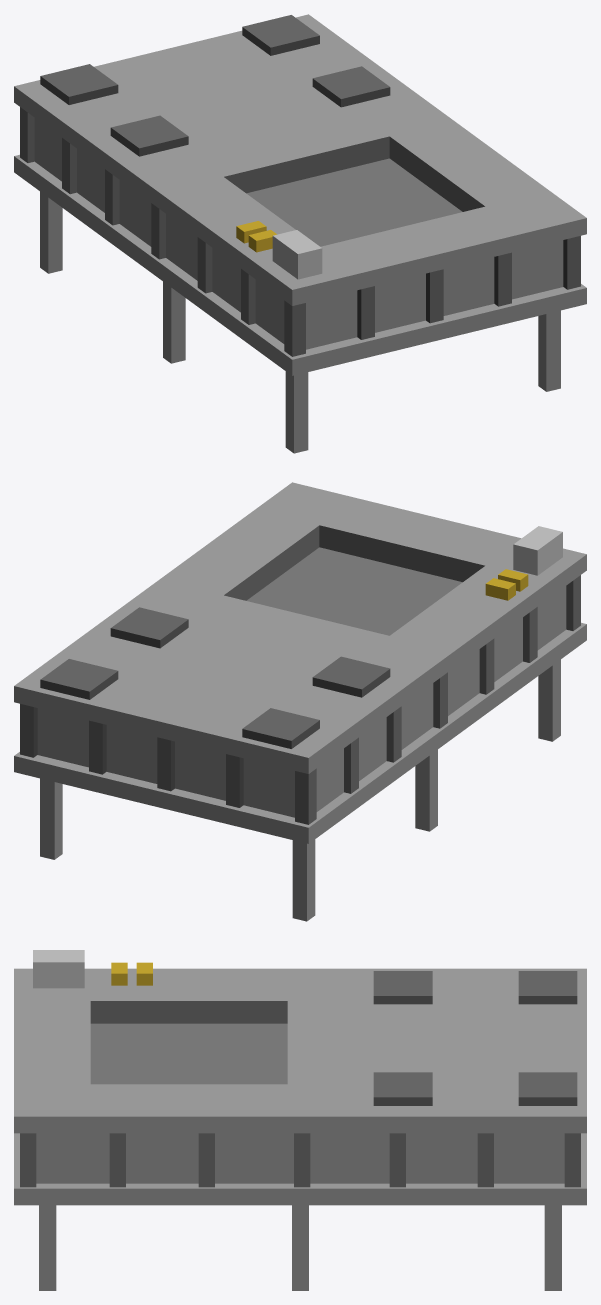
The model's file is SM_Bld_ShuttleLaunchPad_03.fbx.
3 renders of one model, top to bottom at view 1: azimuth 30°, elevation 25°; view 2: azimuth 150°, elevation 25°; view 3: azimuth 270°, elevation 25°, orthographic. The views are drawn at different scales.
Visible parts, largest first — view 1: SM_Bld_ShuttleLaunchPad_03; view 2: SM_Bld_ShuttleLaunchPad_03; view 3: SM_Bld_ShuttleLaunchPad_03.
Boxes of the visible parts, <box> form: SM_Bld_ShuttleLaunchPad_03: <box>14,14,586,453</box>; SM_Bld_ShuttleLaunchPad_03: <box>14,482,586,921</box>; SM_Bld_ShuttleLaunchPad_03: <box>14,950,586,1290</box>.
Bounding box in the file's own units: 16.6 × 10.84 × 27.15.
